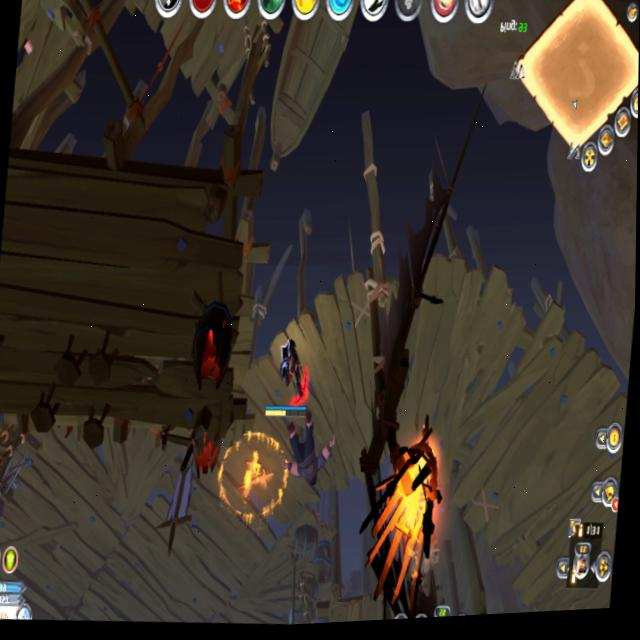red: (258, 318, 322, 430)
